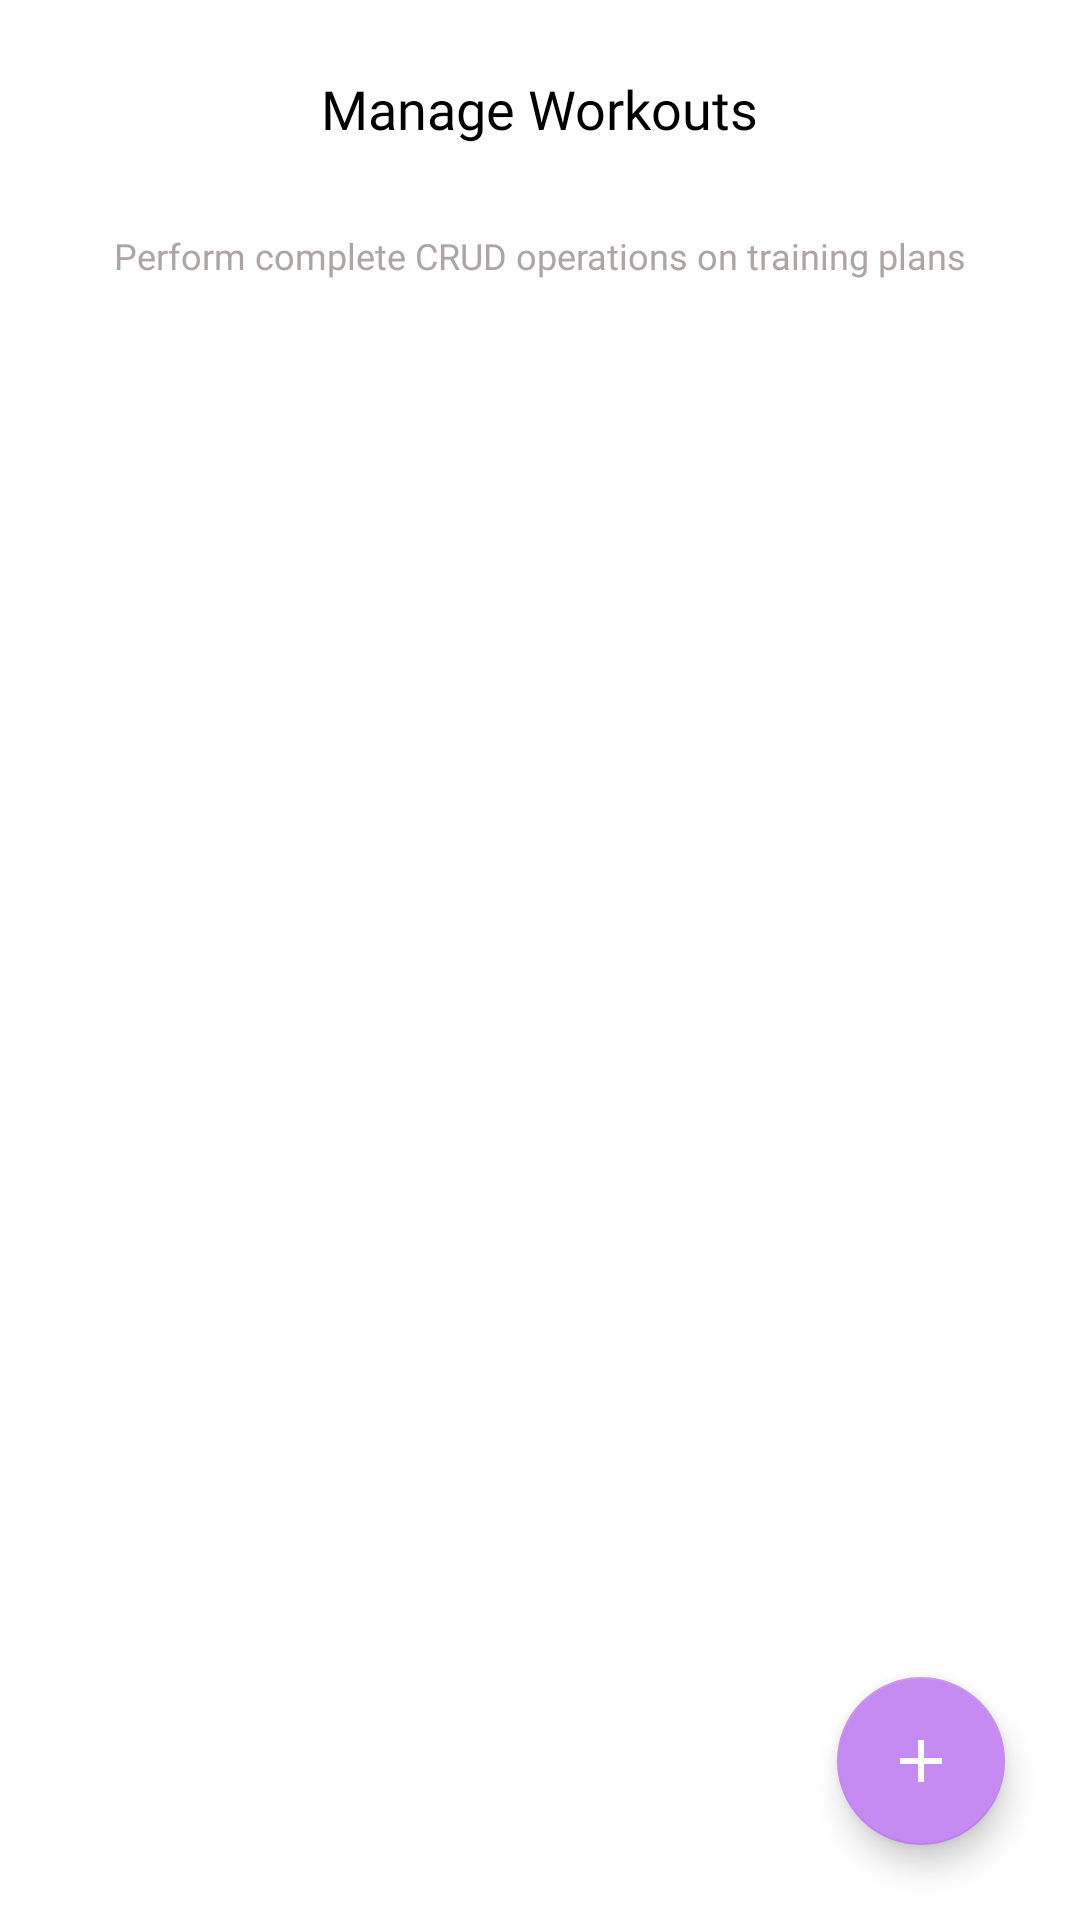

Where to tap for icons on this 1080*1920 app screen, as (x=x, y=y):
plus: (x=921, y=1761)
